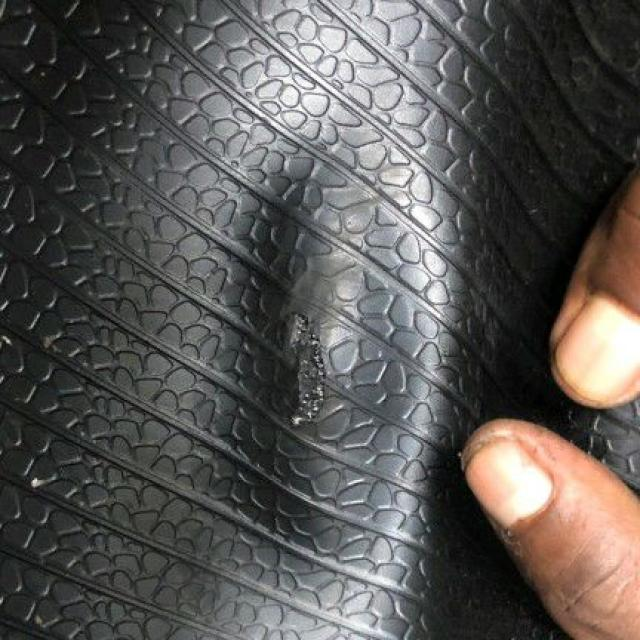Bulge: (230, 165, 420, 560)
